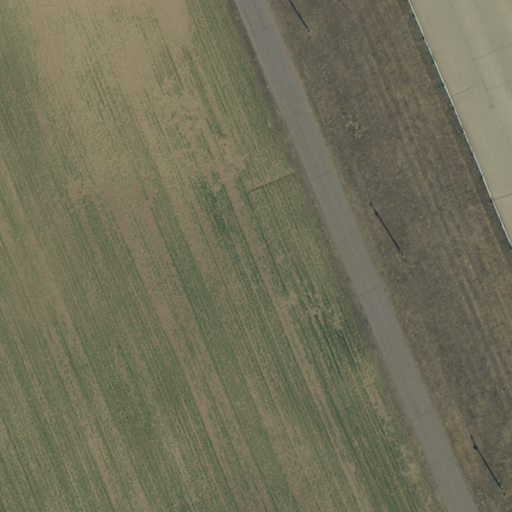DT: (391, 241, 415, 269), (489, 474, 510, 506), (300, 20, 319, 43)
